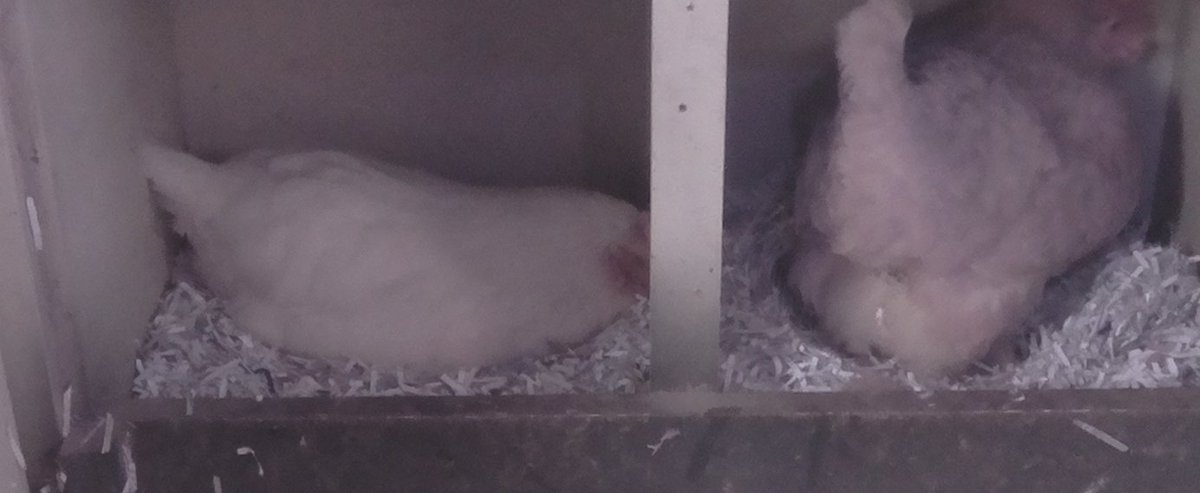hen: (778, 4, 1175, 374), (127, 139, 644, 383)
